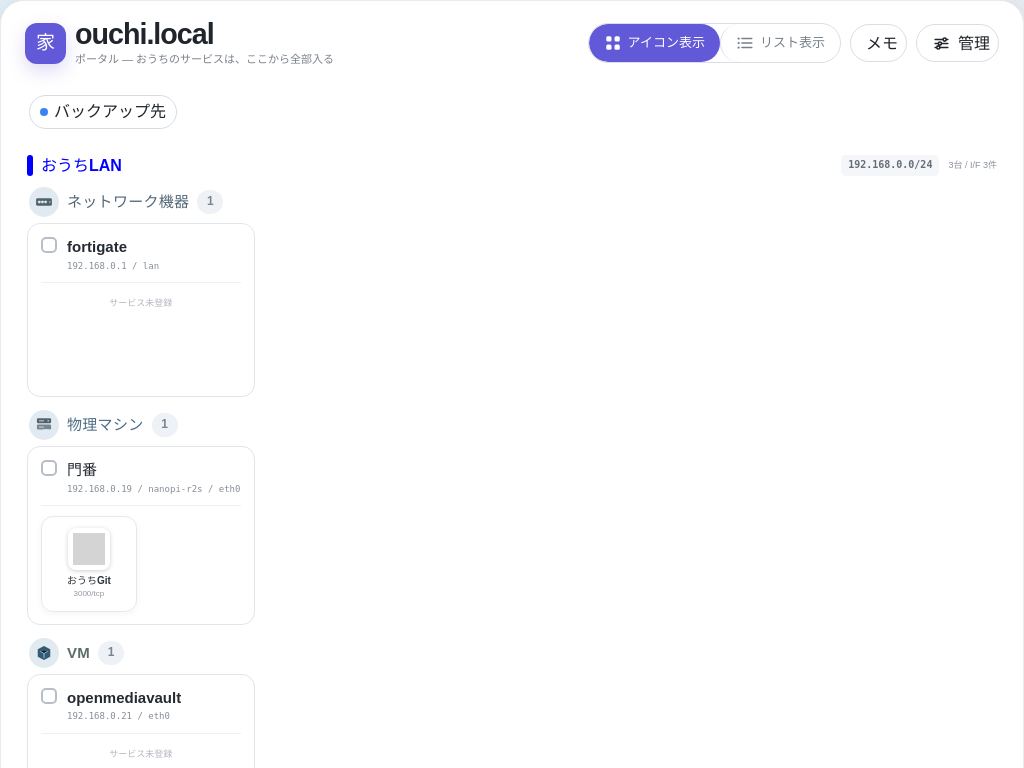
Test: OuchiPortal › shows petname as the management device title and keeps the hostname beside it
What coordinates should you click on to do the following:
click the button "管理"
I would click on:
 (958, 43)
Its box is [916,24,999,62].
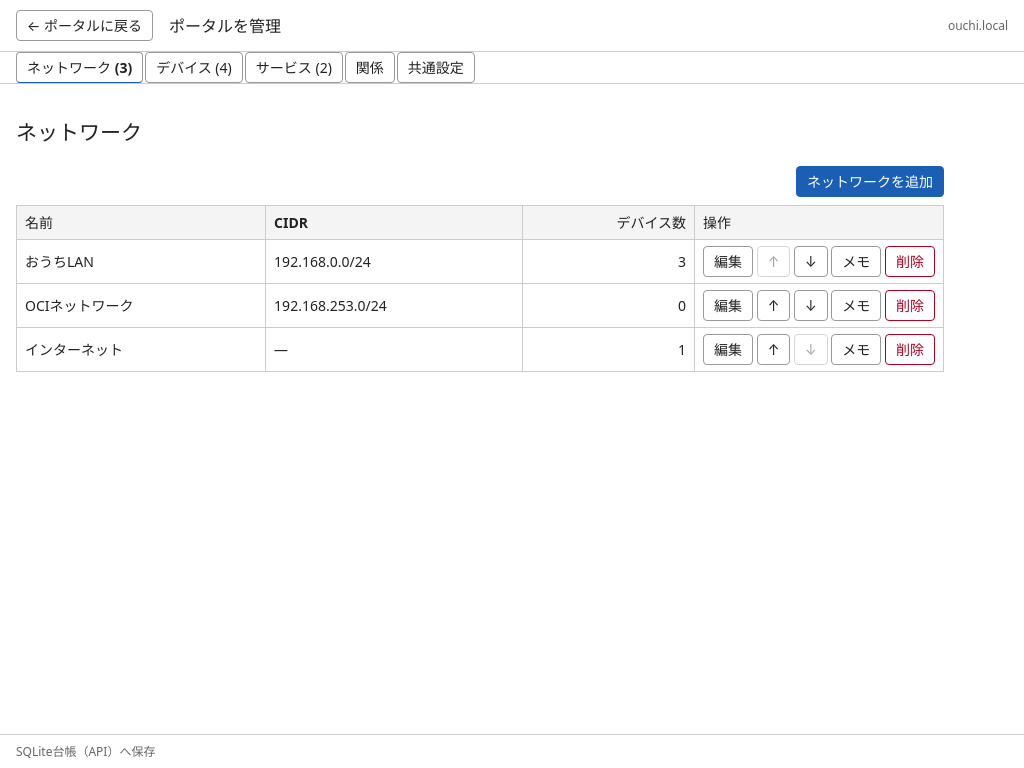
What coordinates should you click on to do the following:
click the tab "デバイス (4)"
I would click on:
 (194, 68)
Its box is [145,52,243,83].
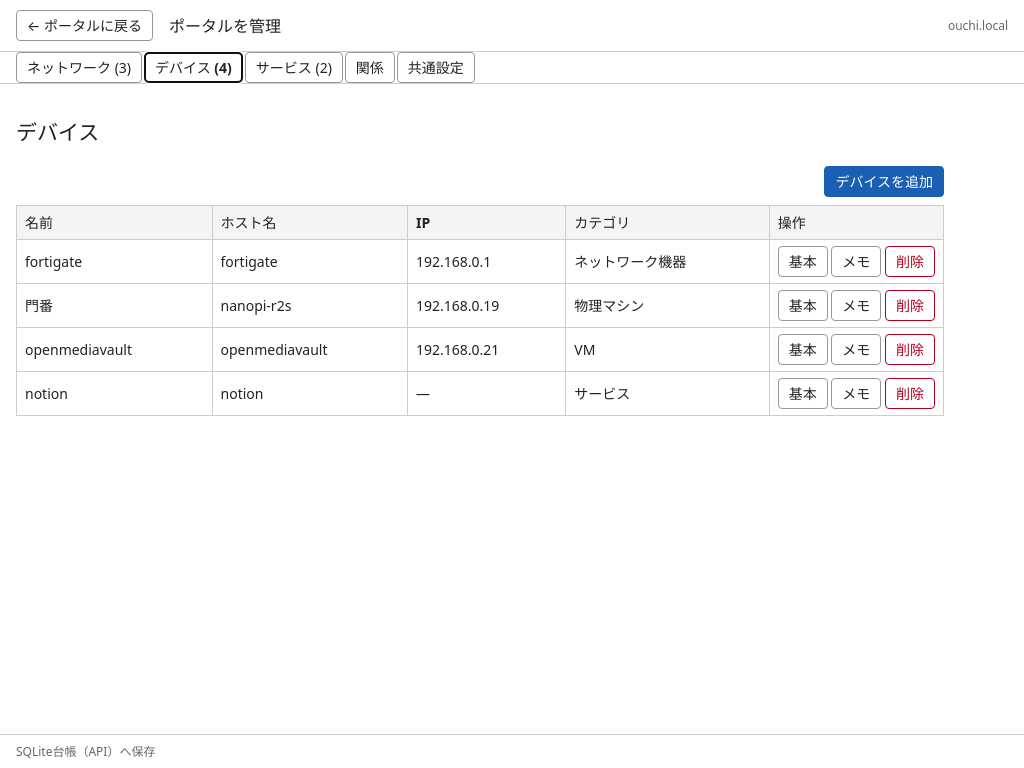
Check: the text "nanopi-r2s" is shown, box [212,284,408,328]
